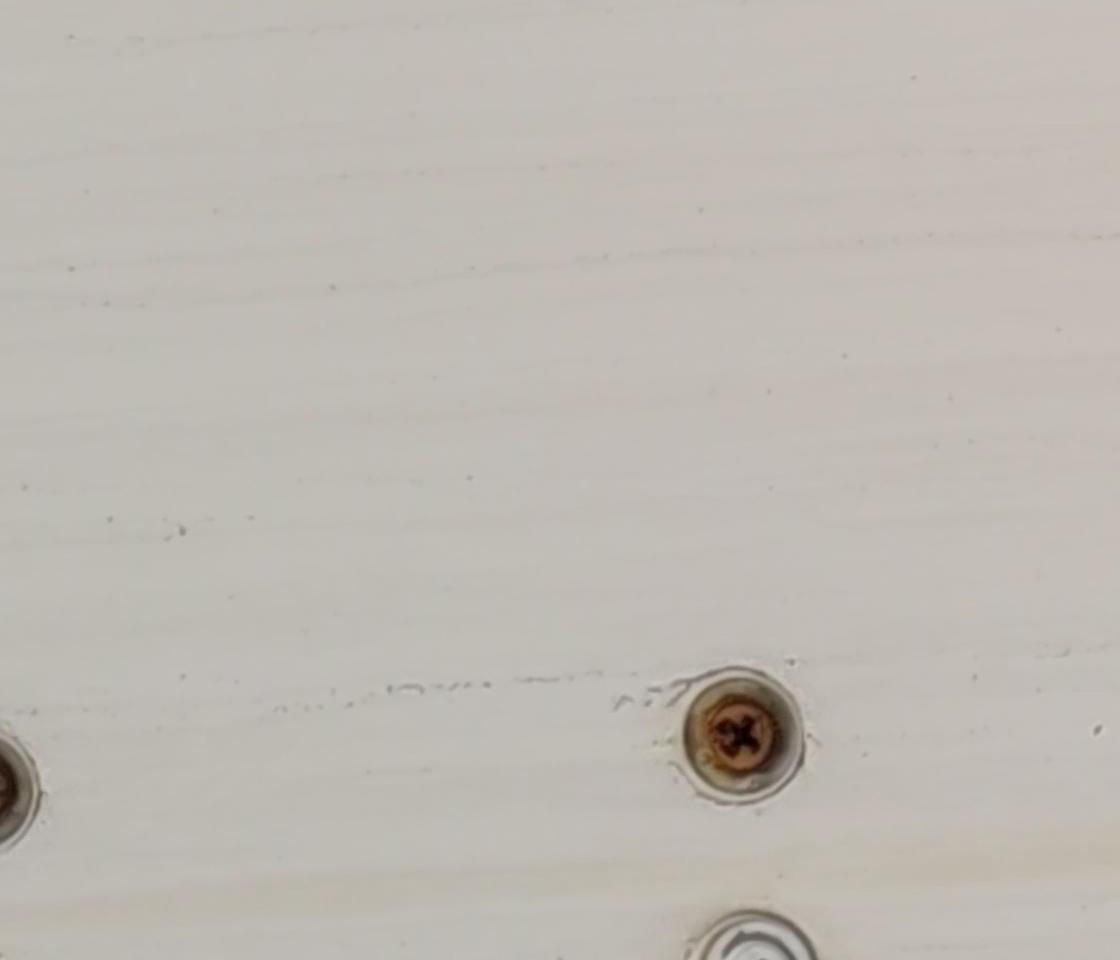rivet_damage: (669, 659, 808, 812)
